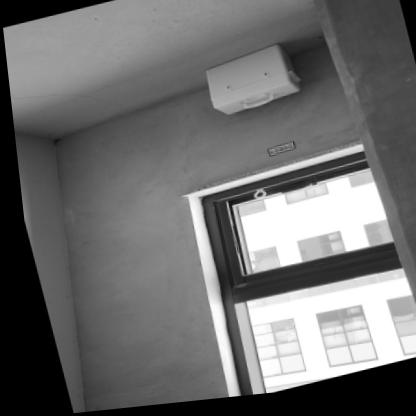DDL: (198, 45, 303, 123)
